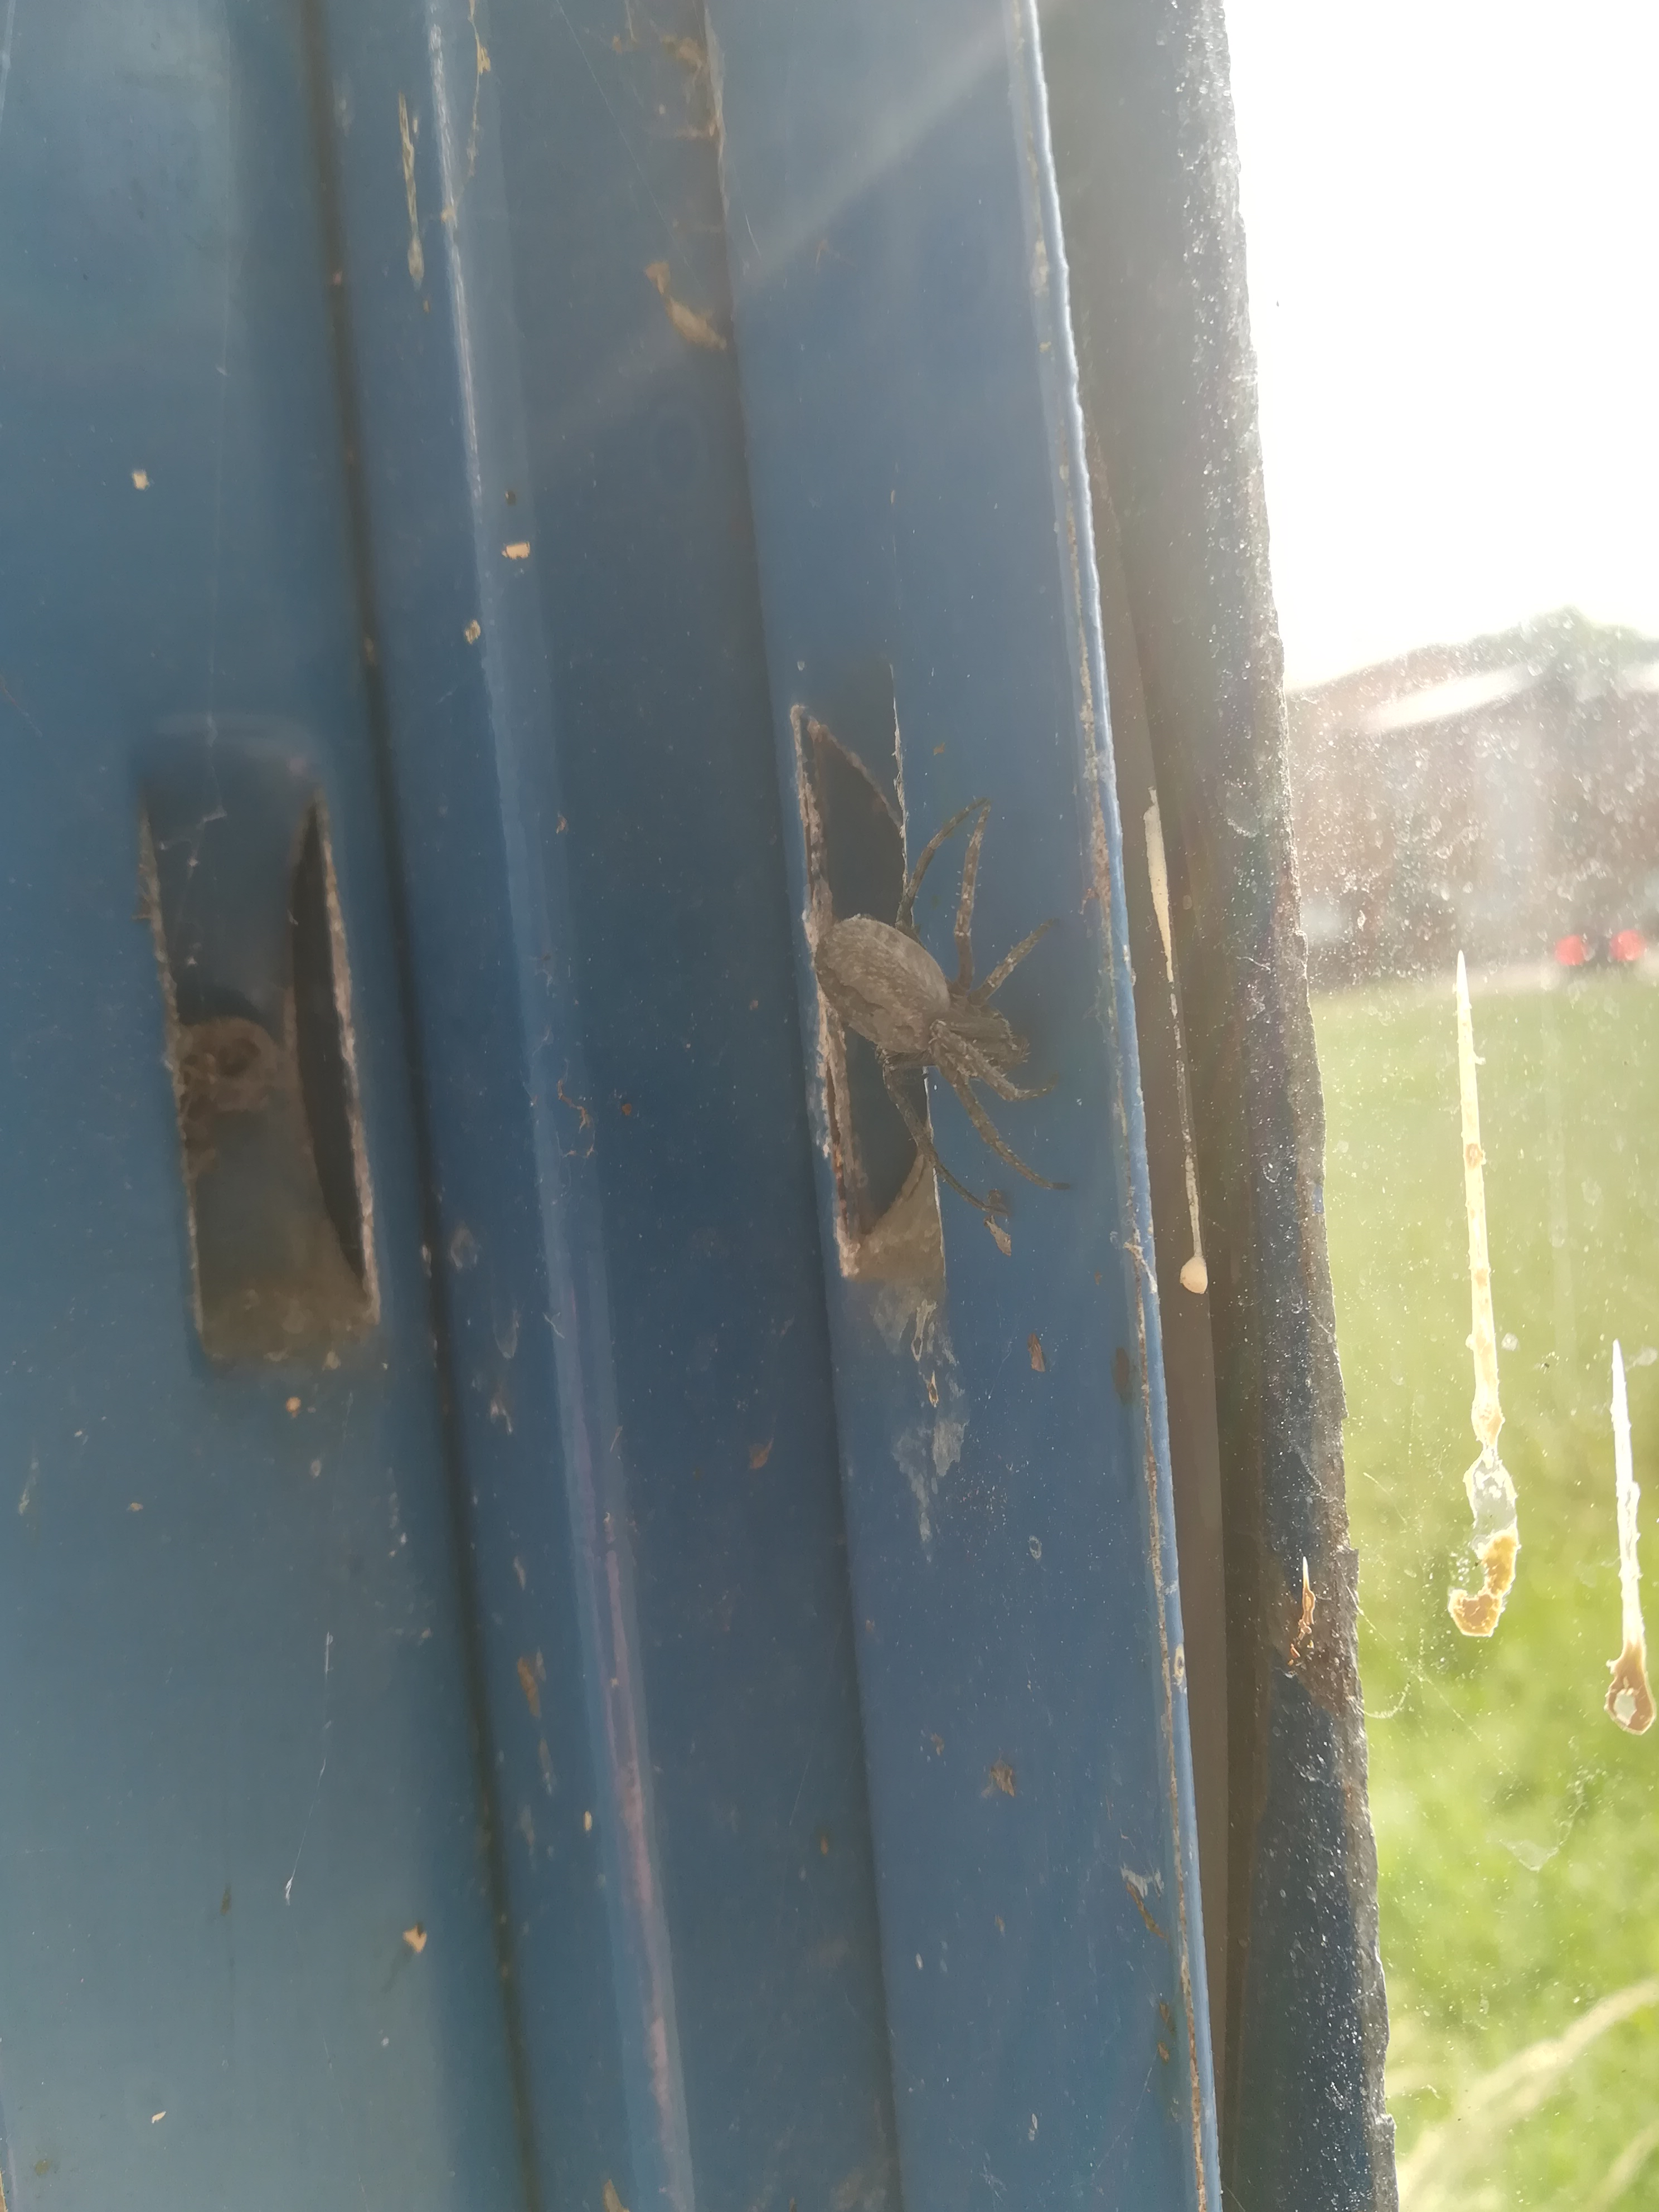spider: (725, 787, 1140, 1259)
